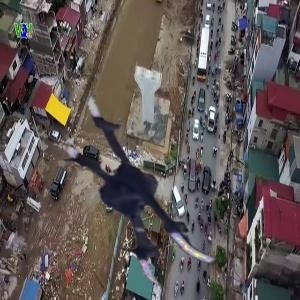drone: (49, 84, 254, 289)
